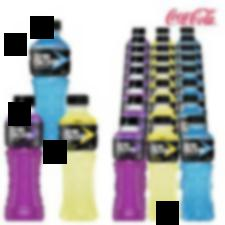powerade_mountainblast: (27, 16, 71, 116), (181, 113, 218, 223)
